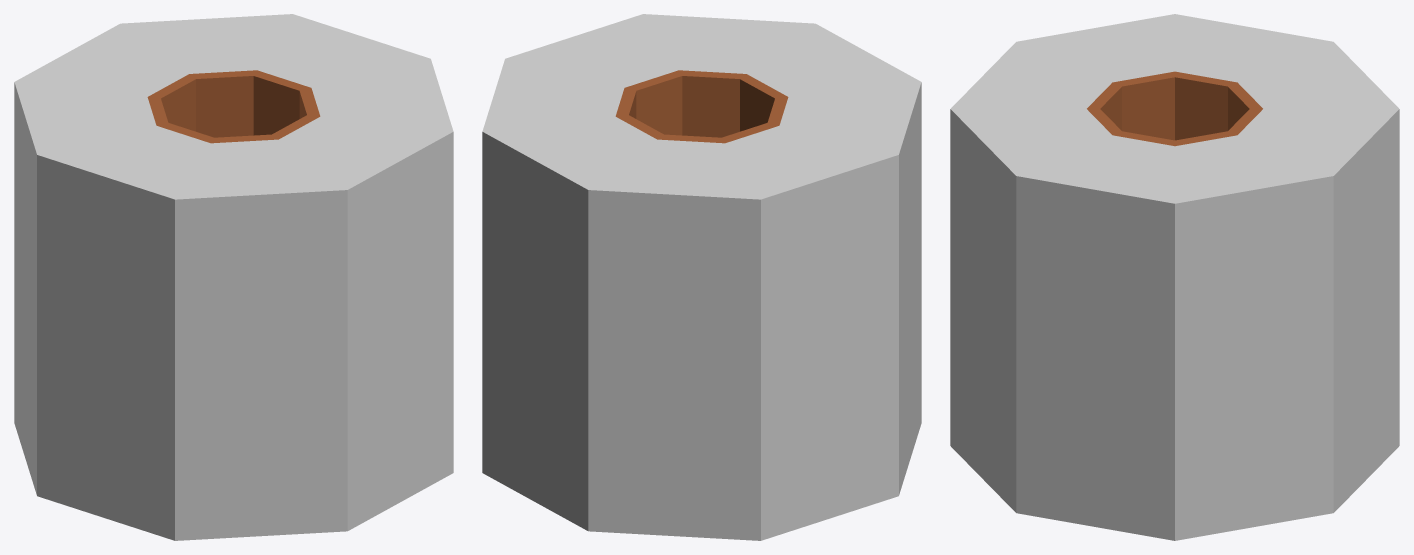
File: toiletPaper.dae
3 renders of one model, left to right at view 1: azimuth 30°, elevation 25°; view 2: azimuth 150°, elevation 25°; view 3: azimuth 270°, elevation 25°, orthographic.
Visible parts, largest first — view 1: toiletPaper; view 2: toiletPaper; view 3: toiletPaper.
Part boxes in pixels (bbox=[...]): toiletPaper: bbox=[14, 14, 453, 540]; toiletPaper: bbox=[482, 14, 921, 540]; toiletPaper: bbox=[950, 14, 1399, 540].
Bounding box in the file's own units: 2.41 × 2 × 2.41.
